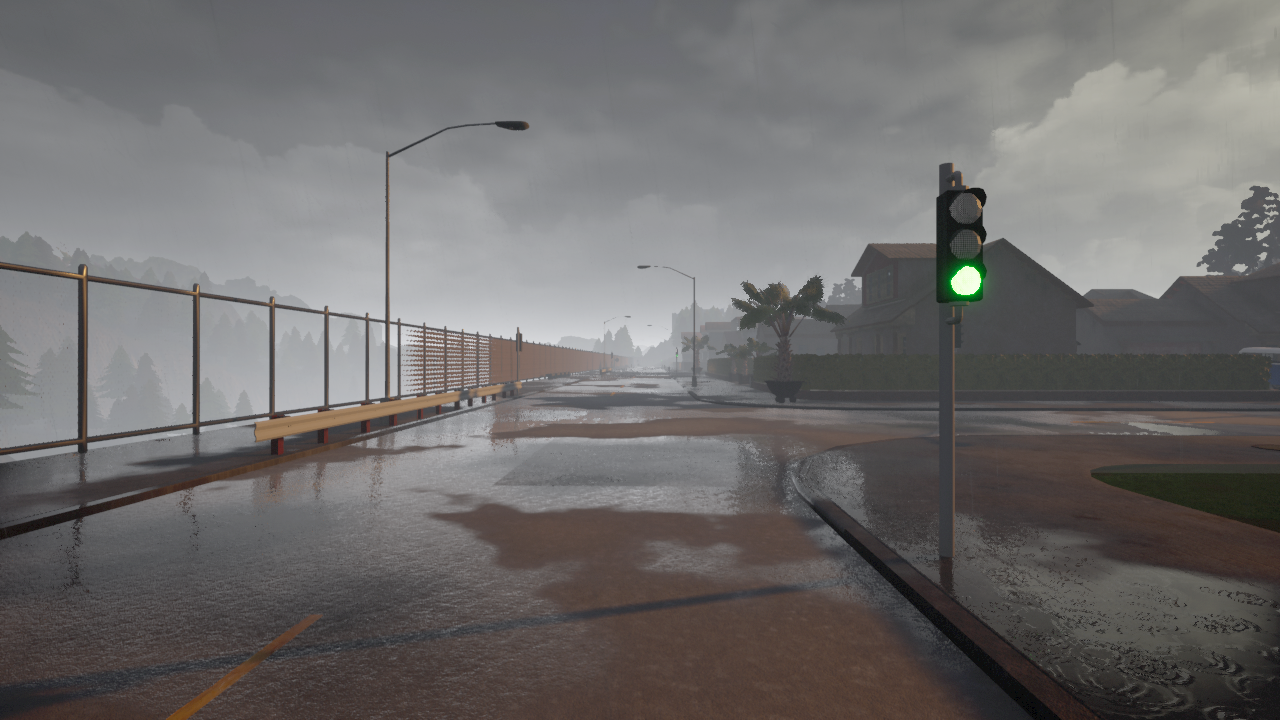green: (935, 185, 989, 303)
